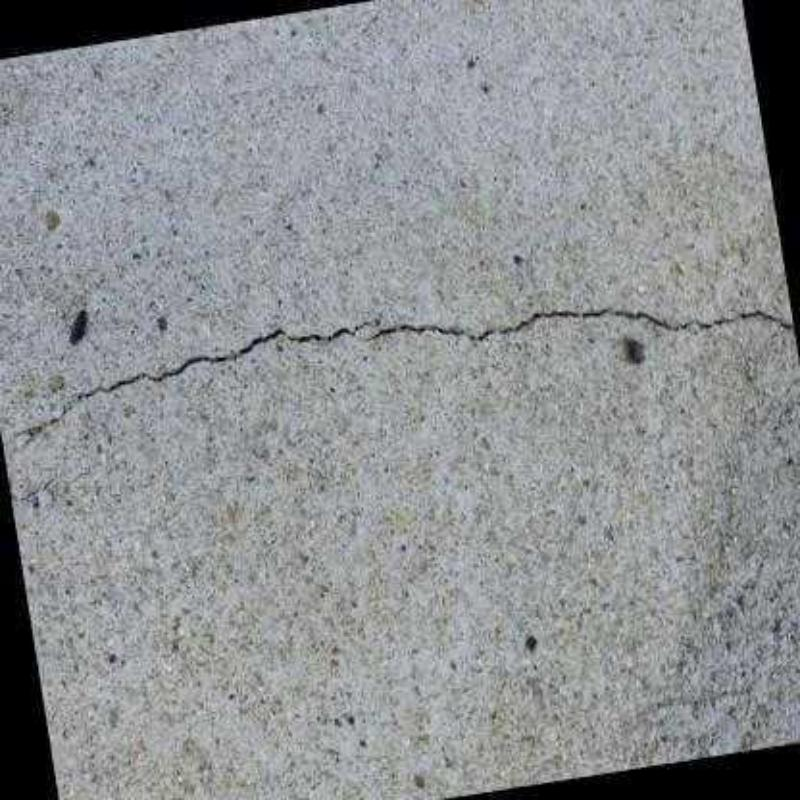pothole: (26, 318, 371, 441), (369, 304, 793, 342)
